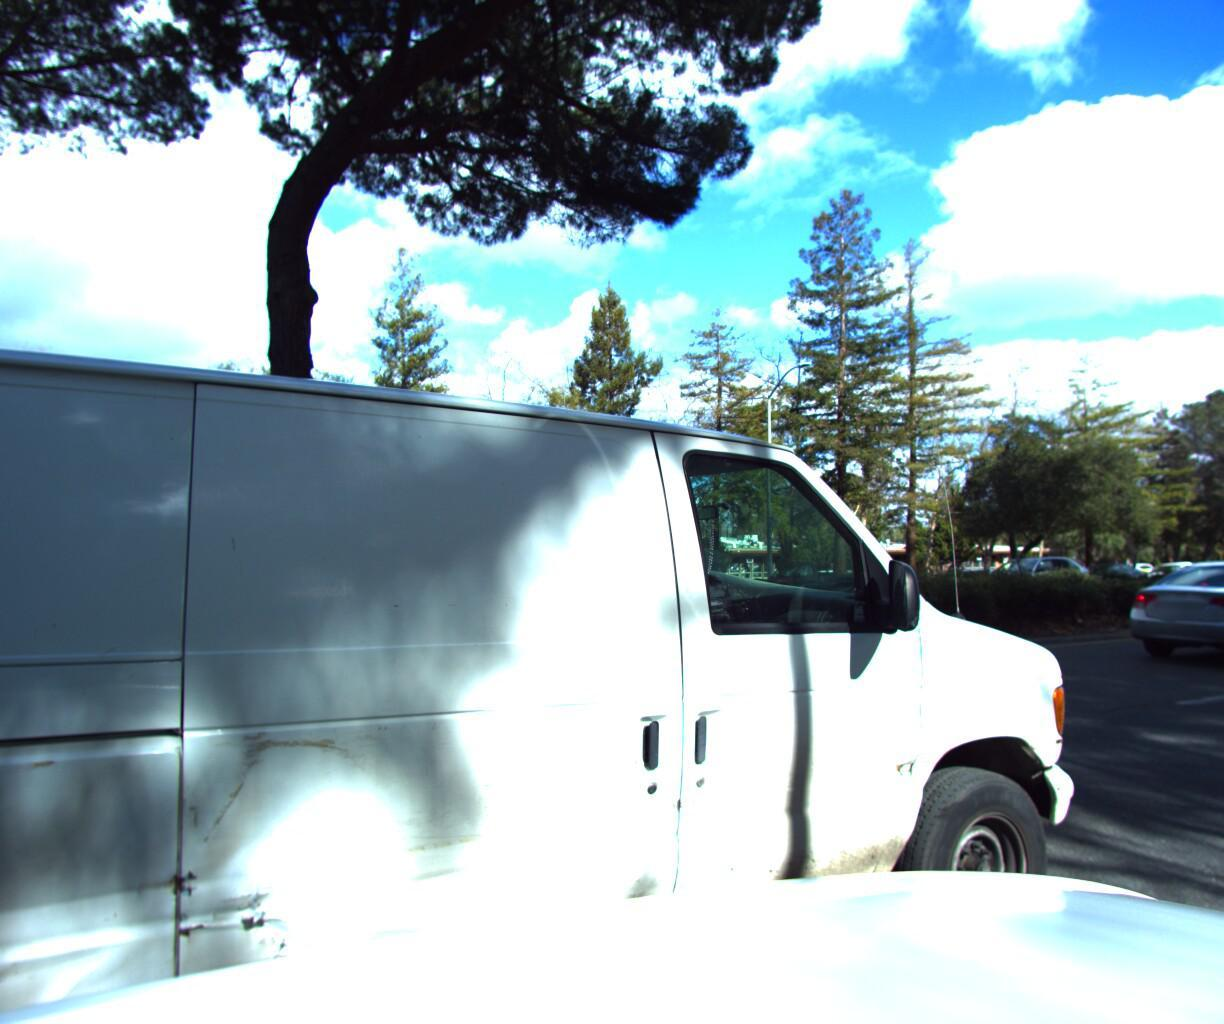car: (0, 0, 1154, 1024), (1106, 561, 1224, 686), (965, 555, 1103, 612)
